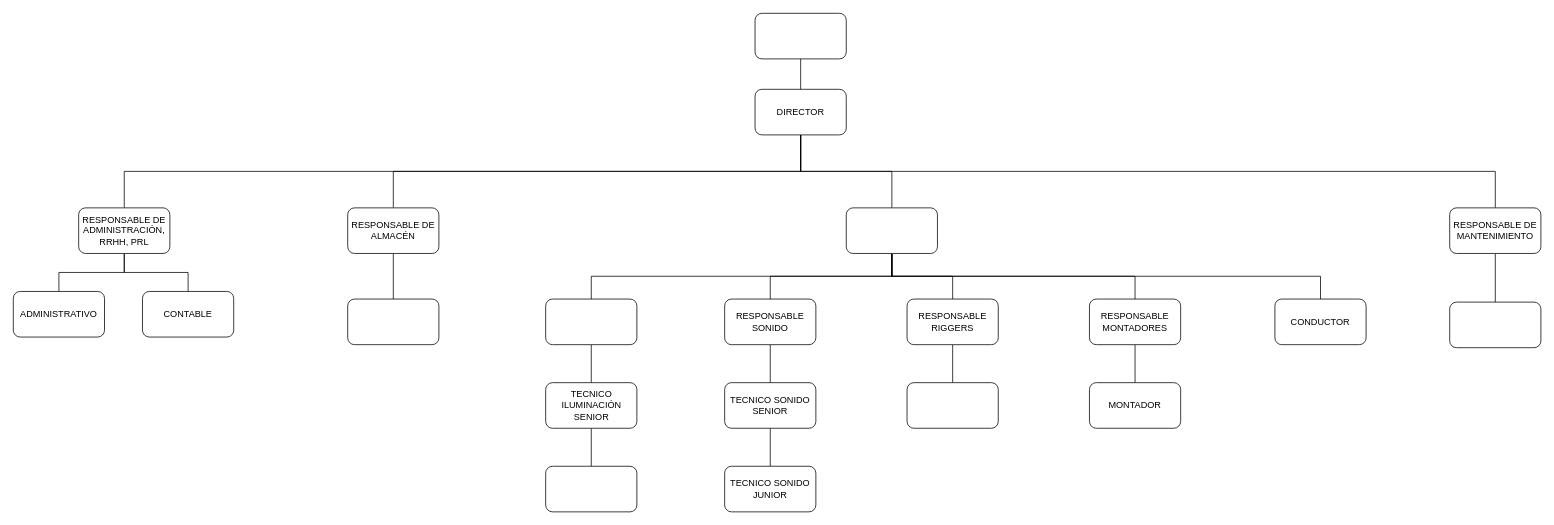
Some shapes in this 1554 by 525 pixel diagram are drawn without their labels. The centre of each missing label's shape, as x and y in pixels:
"CEO" belongs at [800,36].
"PEÓN DE ALMACÉN" belongs at [393,321].
"RESPONSABLE DE GESTIÓN DE EVENTOS" belongs at [891,230].
"RESPONSABLE ILUMINACIÓN" belongs at [591,321].
"RIGGER" belongs at [952,405].
"TECNICO ILUMINACIÓN JUNIOR" belongs at [591,489].
"TÉCNICO DE MANTENIMIENTO" belongs at [1495,324].
